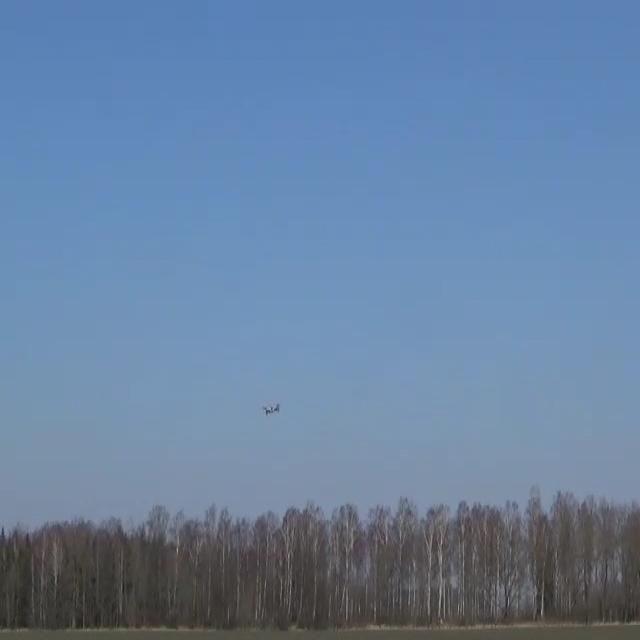drone: (261, 403, 279, 415)
